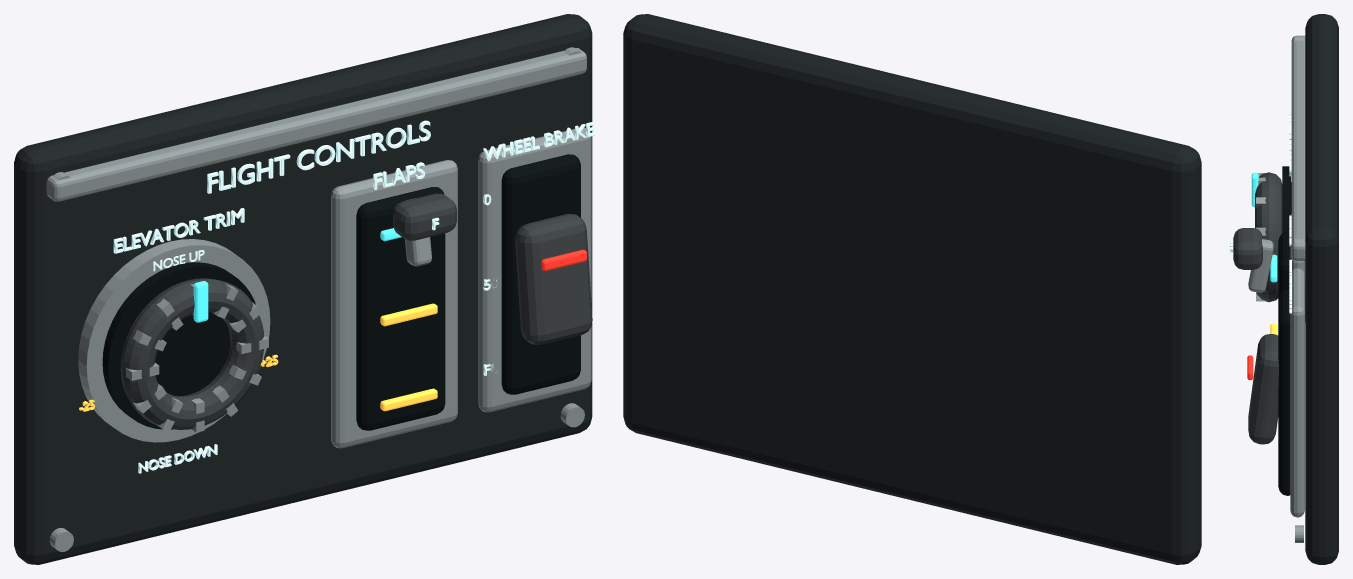
Rendered from flight_controls_pedestal.glb.
3 renders of one model, left to right at view 1: azimuth 30°, elevation 25°; view 2: azimuth 150°, elevation 25°; view 3: azimuth 270°, elevation 25°, orthographic. The views are drawn at different scales.
Visible parts, largest first — view 1: Pedestal_Backplate, Flaps_Gate, Pedestal_TopRail, Flaps_Guard, Brakes_Gate, Brakes_Guard, Trim_Wheel, Trim_Gate, Trim_Bezel, Brakes_Paddle, Pedestal_Title, Flaps_LeverKnob (+3 smaller); view 2: Pedestal_Backplate; view 3: Pedestal_Backplate, Brakes_Guard, Pedestal_TopRail, Brakes_Paddle, Brakes_Gate, Trim_Wheel, Flaps_LeverKnob, Flaps_LeverStem, Flaps_Gate, Trim_Gate, Flaps_Notch_0, Trim_Index (+4 smaller).
Part boxes in pixels (left/top/right/bottom): Pedestal_Backplate: left=14, top=14, right=592, bottom=564; Flaps_Gate: left=356, top=187, right=445, bottom=430; Pedestal_TopRail: left=46, top=48, right=586, bottom=201; Flaps_Guard: left=331, top=160, right=457, bottom=448; Brakes_Gate: left=501, top=154, right=580, bottom=394; Brakes_Guard: left=478, top=127, right=591, bottom=412; Trim_Wheel: left=120, top=278, right=264, bottom=429; Trim_Gate: left=102, top=262, right=255, bottom=429; Trim_Bezel: left=78, top=239, right=270, bottom=442; Brakes_Paddle: left=515, top=214, right=592, bottom=344; Pedestal_Title: left=207, top=120, right=430, bottom=193; Flaps_LeverKnob: left=393, top=193, right=456, bottom=240; Pedestal_Backplate: left=623, top=14, right=1201, bottom=564; Pedestal_Backplate: left=1305, top=14, right=1338, bottom=564; Brakes_Guard: left=1290, top=268, right=1304, bottom=517; Pedestal_TopRail: left=1291, top=35, right=1305, bottom=260; Brakes_Paddle: left=1248, top=334, right=1278, bottom=444; Brakes_Gate: left=1278, top=289, right=1290, bottom=495; Trim_Wheel: left=1255, top=172, right=1282, bottom=302; Flaps_LeverKnob: left=1233, top=228, right=1262, bottom=269; Flaps_LeverStem: left=1248, top=239, right=1273, bottom=292; Flaps_Gate: left=1278, top=232, right=1290, bottom=297; Trim_Gate: left=1282, top=166, right=1291, bottom=233; Flaps_Notch_0: left=1270, top=254, right=1277, bottom=282; Trim_Index: left=1251, top=172, right=1258, bottom=207.
Size of the model in its own units: 5.4 by 3.75 by 1.11.
